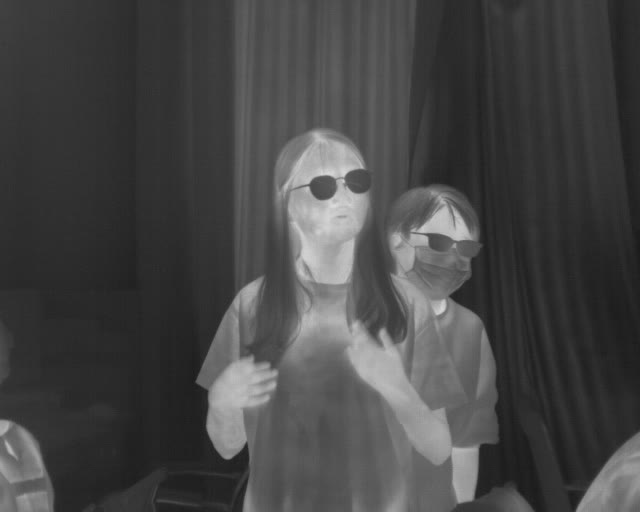face: (272, 126, 374, 250), (391, 182, 482, 300)
